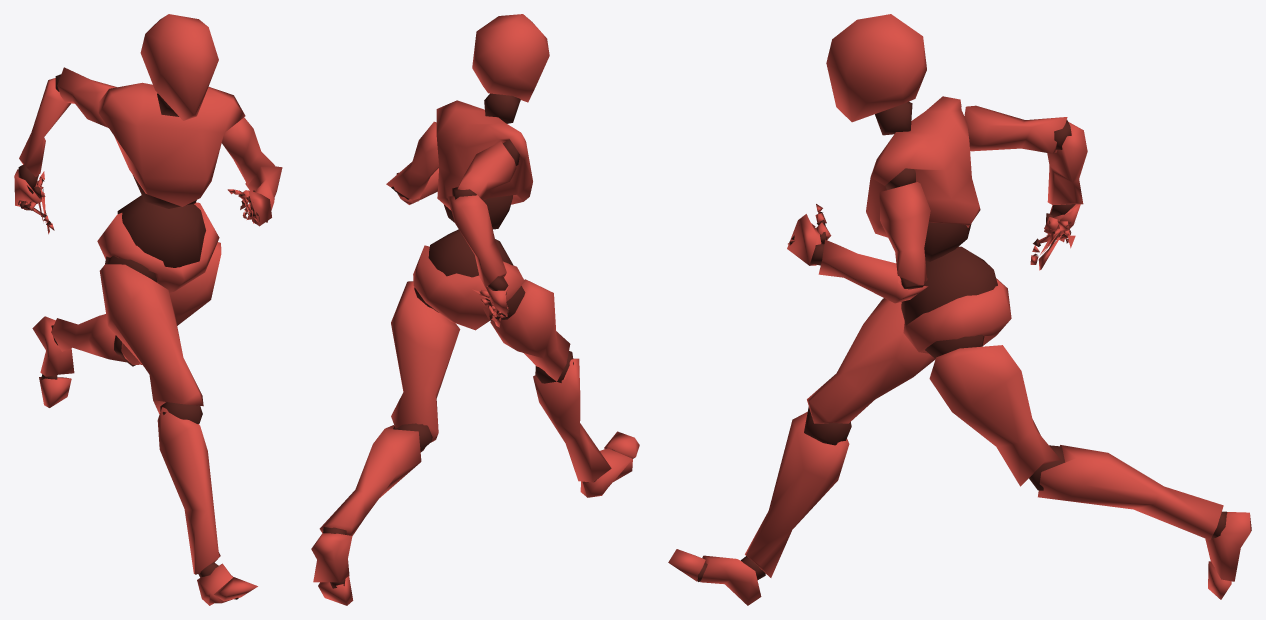
3 renders of one model, left to right at view 1: azimuth 30°, elevation 25°; view 2: azimuth 150°, elevation 25°; view 3: azimuth 270°, elevation 25°, orthographic. The views are drawn at different scales.
Visible parts, largest first — view 1: Beta_Surface.001; view 2: Beta_Surface.001; view 3: Beta_Surface.001.
Part boxes in pixels (left/top/right/bottom): Beta_Surface.001: left=14, top=14, right=282, bottom=605; Beta_Surface.001: left=311, top=14, right=639, bottom=605; Beta_Surface.001: left=668, top=14, right=1251, bottom=605.
Size of the model in its own units: 5.23 by 14.01 by 12.39.
